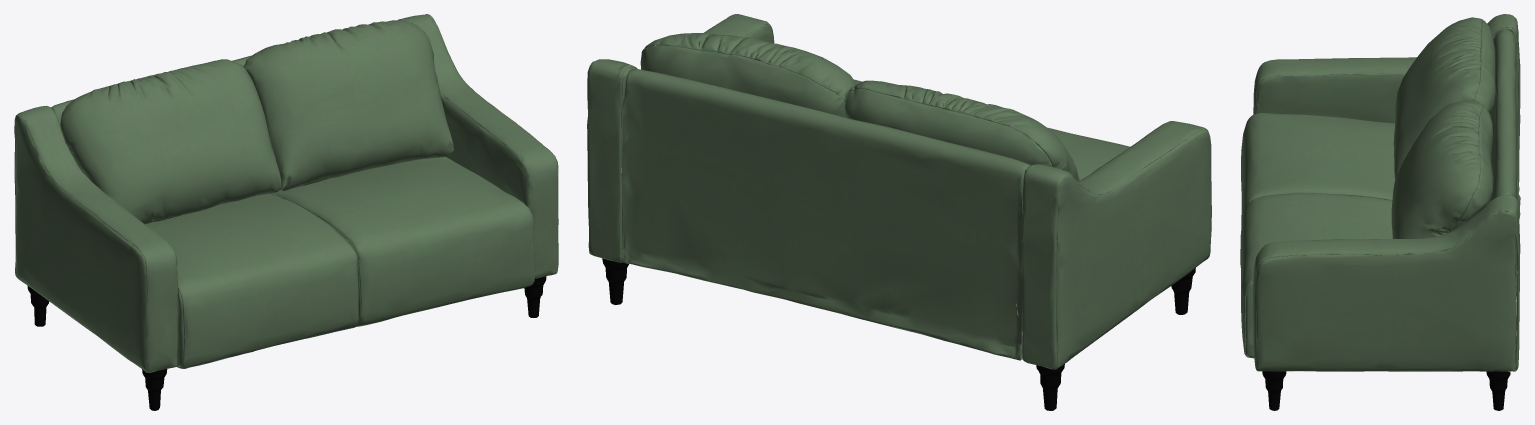
File: gullvalla_sofa_2_osobowa_70613398.glb
3 renders of one model, left to right at view 1: azimuth 30°, elevation 25°; view 2: azimuth 150°, elevation 25°; view 3: azimuth 270°, elevation 25°, orthographic. The views are drawn at different scales.
Visible parts, largest first — view 1: gullvalla_sofa_2_osobowa_70613398; view 2: gullvalla_sofa_2_osobowa_70613398; view 3: gullvalla_sofa_2_osobowa_70613398.
Boxes of the visible parts, left/top/right/bottom form: gullvalla_sofa_2_osobowa_70613398: left=14, top=14, right=558, bottom=410; gullvalla_sofa_2_osobowa_70613398: left=587, top=14, right=1211, bottom=410; gullvalla_sofa_2_osobowa_70613398: left=1240, top=14, right=1520, bottom=410.
Size of the model in its own units: 1.44 by 0.7805 by 0.8506.
1 material, 1 textured.
